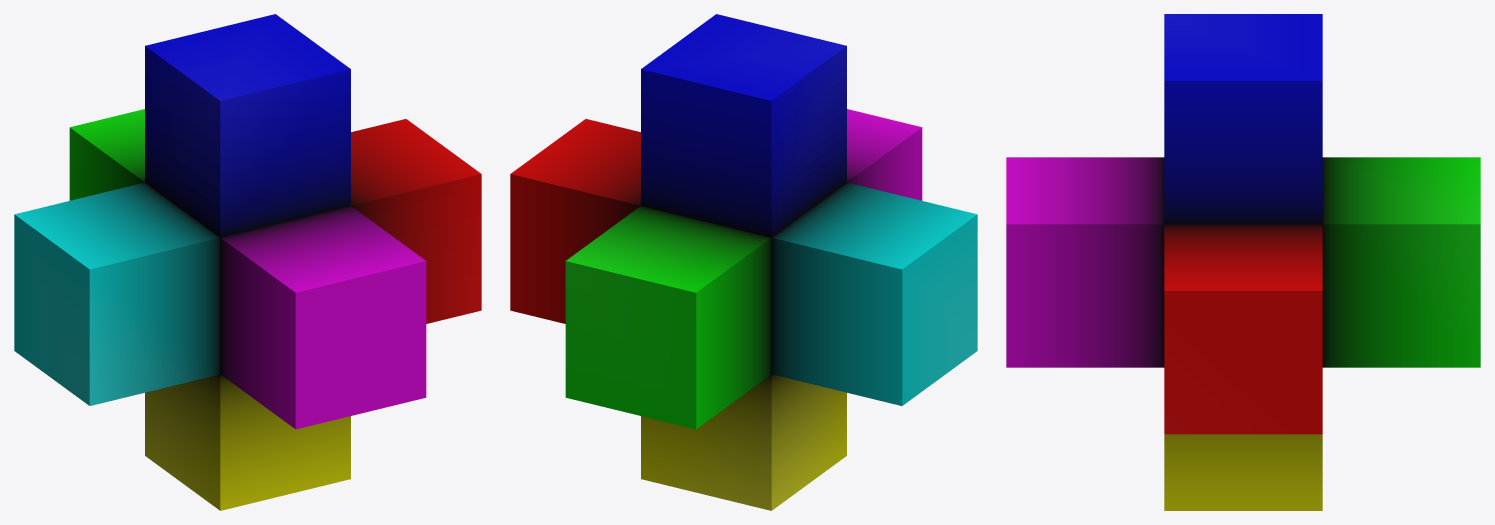
File: DeadalusCube.fbx
The picture shows the model from 3 angles, left to right: view 1: azimuth 30°, elevation 25°; view 2: azimuth 150°, elevation 25°; view 3: azimuth 270°, elevation 25°; orthographic projection. The views are drawn at different scales.
Visible parts, largest first — view 1: RainbowCube; view 2: RainbowCube; view 3: RainbowCube.
Part boxes in pixels (box(x1,y1,x2,y2)): RainbowCube: box(14, 14, 481, 510); RainbowCube: box(510, 14, 977, 510); RainbowCube: box(1006, 14, 1480, 510).
Bounding box in the file's own units: 600 × 600 × 600.
